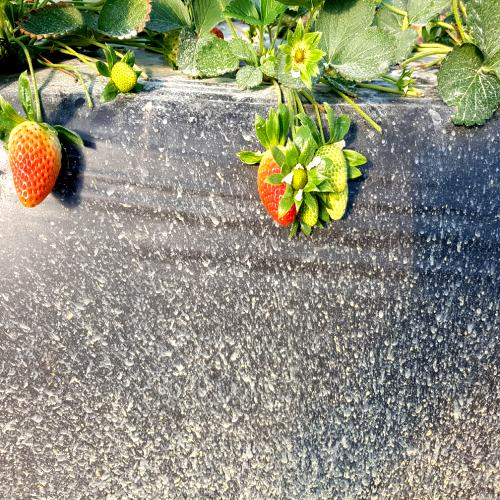partially-ripe: (8, 119, 63, 211), (256, 144, 299, 226)
